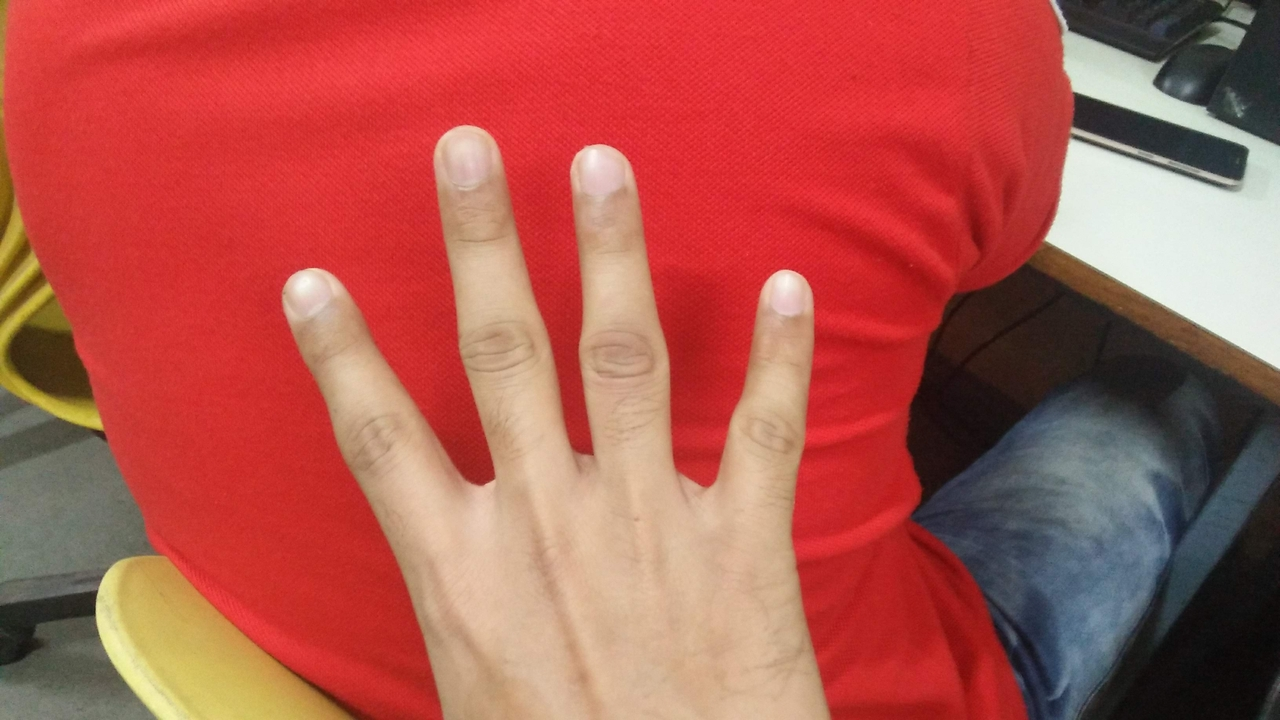fingertip: (268, 262, 346, 328), (426, 128, 500, 192), (752, 260, 820, 328), (564, 144, 638, 204)
